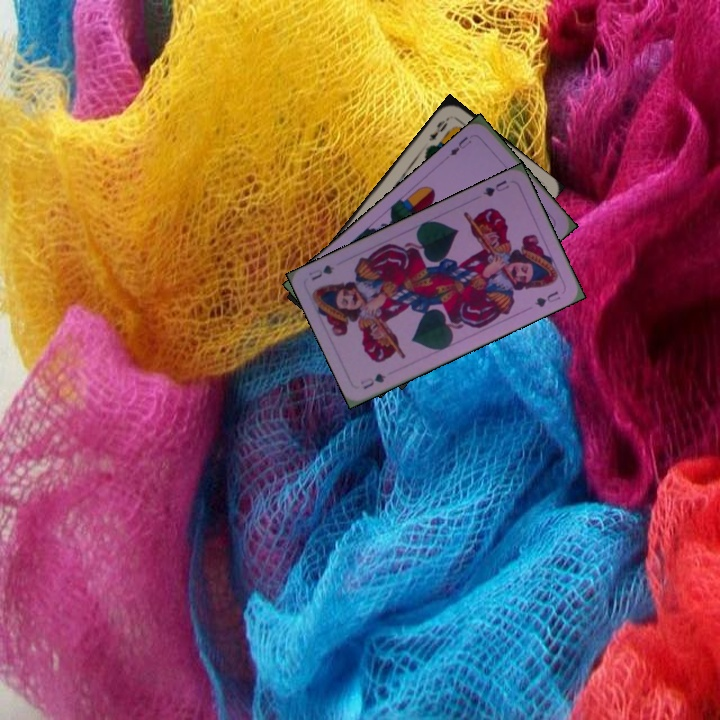EO: (425, 113, 452, 144)
EU: (443, 132, 474, 161)
GU: (479, 176, 512, 199), (356, 369, 388, 392)
